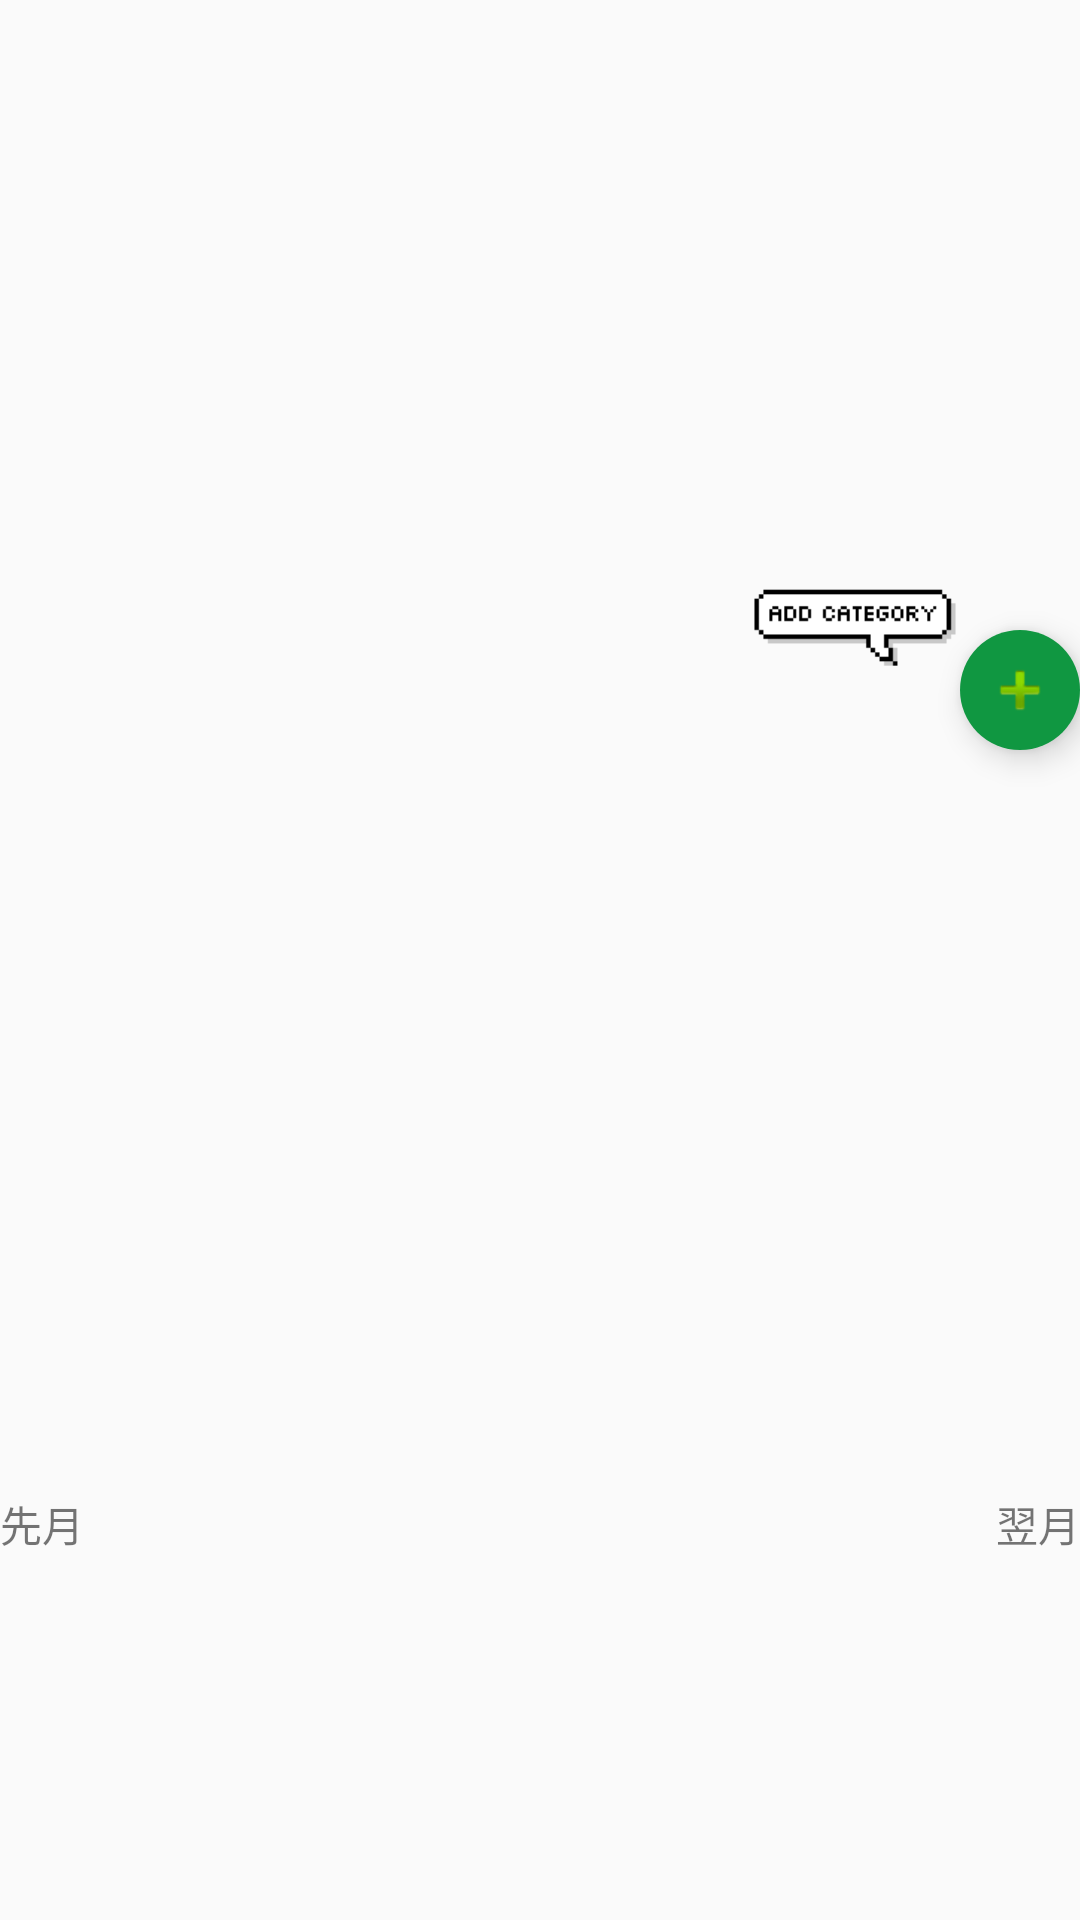

Named icons in this screenshot (1080×1920) and their bounding boxes, rect(x1, y1, x2, y2):
add: rect(960, 630, 1080, 750)
